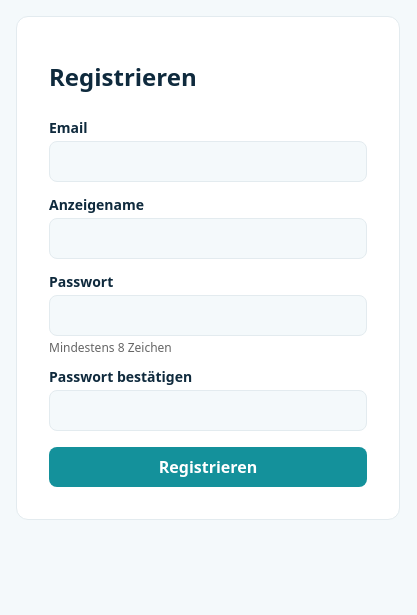
Scenario: RegisterPage › shows email-taken message on 409
The width and height of the screenshot is (417, 615).
Type "taken@test.de" into the field labelled "Email". click: (208, 162)
box: [49,141,367,182]
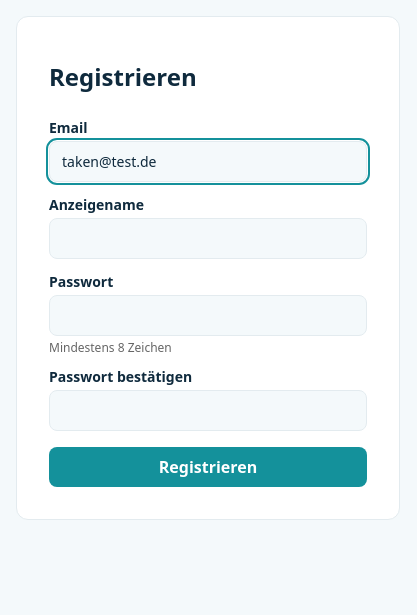
Type "Test" into the field labelled "Anzeigename". click: (208, 239)
box: [49,218,367,259]
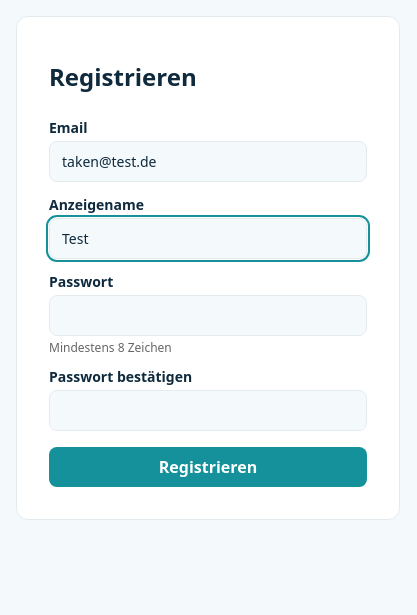
Type "Test1234!" into the password field labelled "Passwort". click: (208, 316)
box: [49,295,367,336]
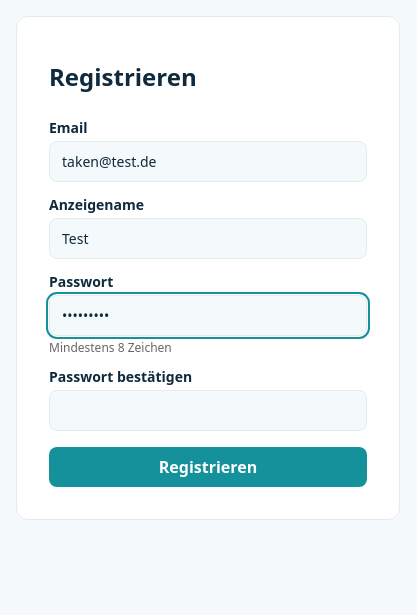
Type "Test1234!" into the password field labelled "Passwort bestätigen". click: (208, 411)
box: [49,390,367,431]
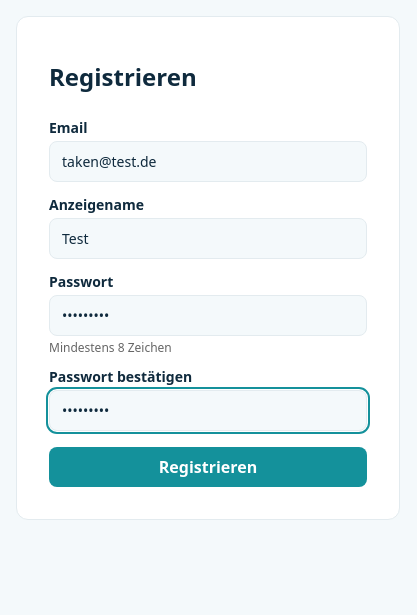
Click the button "Registrieren". click: (208, 467)
box: [49,447,367,487]
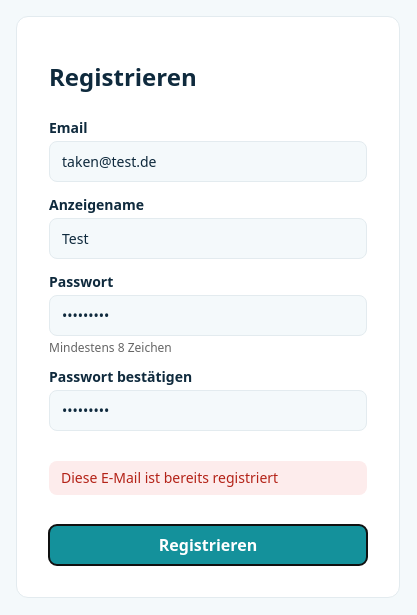
Now the message shows "bereits registriert", box [61,468,278,487]
